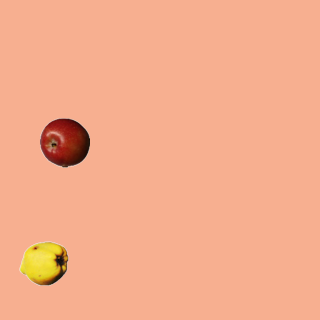Apple Braeburn: (39, 117, 89, 167)
Quince: (18, 238, 68, 288)
